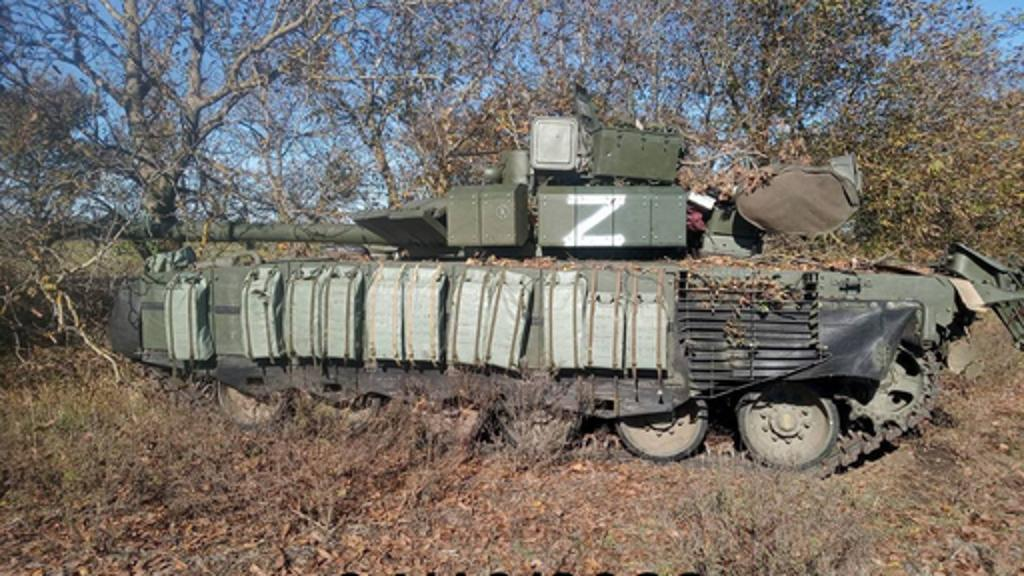TANK: (0, 116, 1004, 472)
